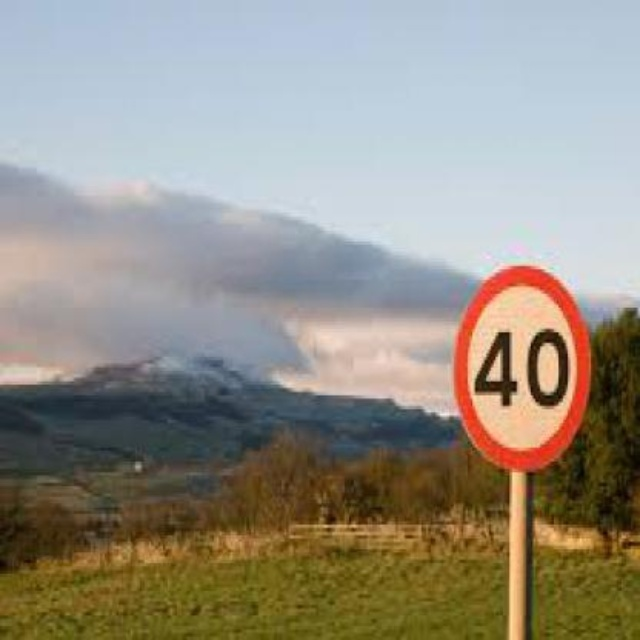Tốc độ tối đa cho phép 10km/h: (458, 268, 588, 468)
